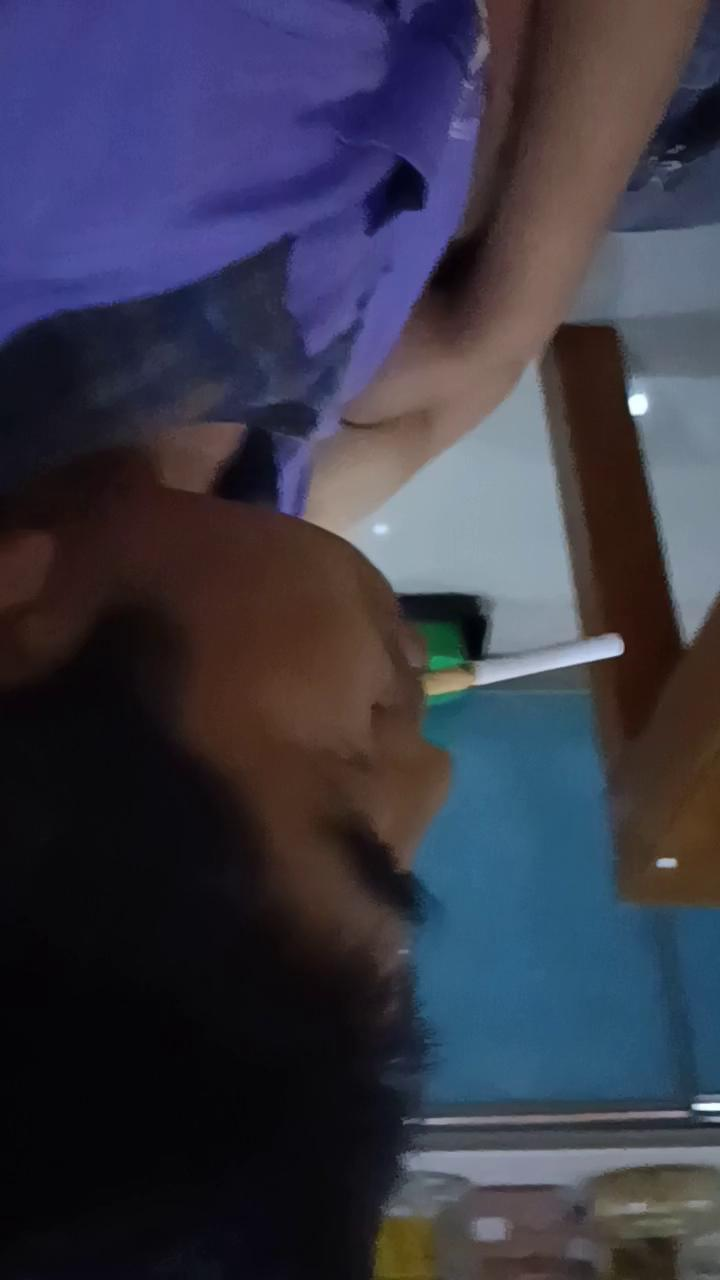smoke: (419, 634, 627, 697)
